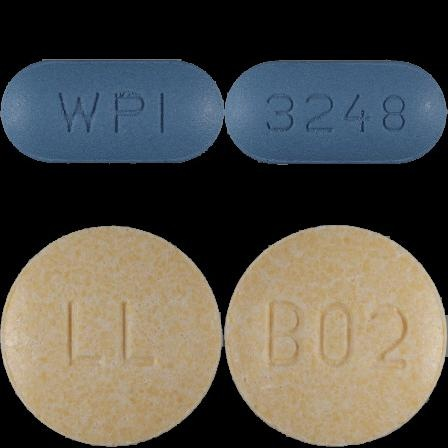63629-4468: (0, 0, 224, 224)
